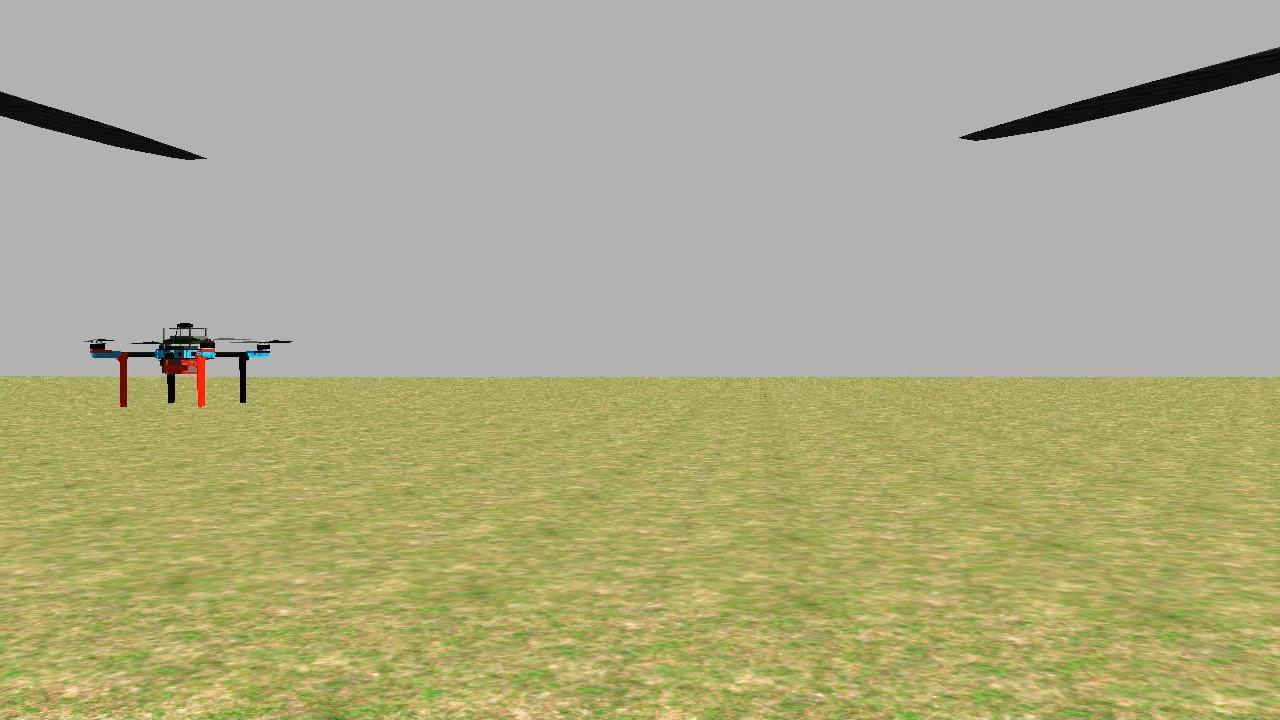UAV: (85, 309, 281, 438)
